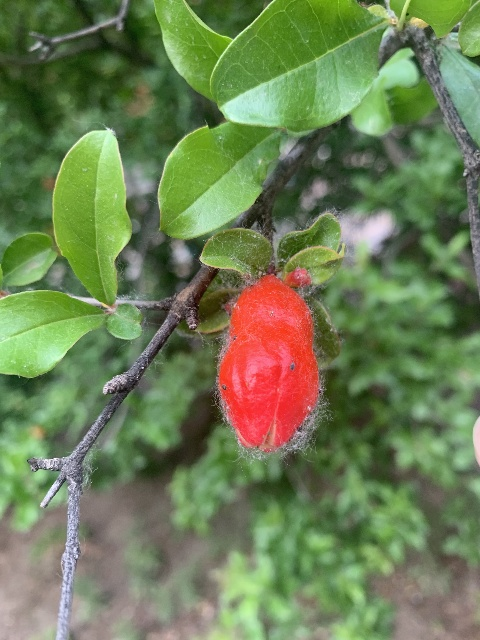bud: (219, 276, 318, 451)
